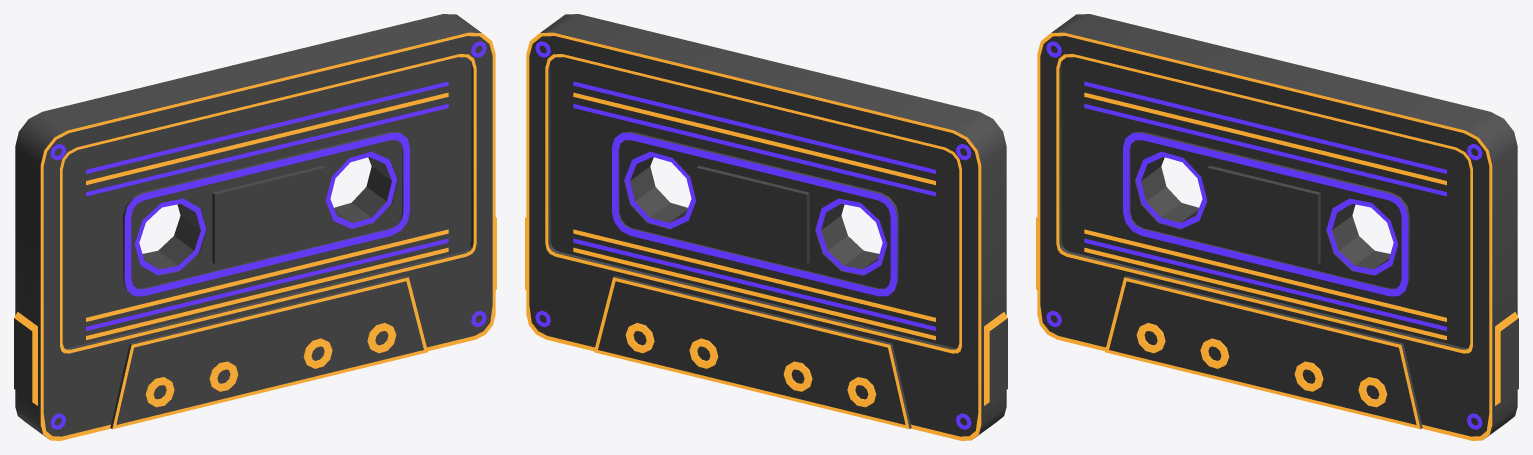
The model's file is tape.glb.
3 renders of one model, left to right at view 1: azimuth 30°, elevation 25°; view 2: azimuth 150°, elevation 25°; view 3: azimuth 330°, elevation 25°, orthographic.
Parts seen in each view (by area): view 1: tape; view 2: tape; view 3: tape.
Boxes of the visible parts, x1,y1,x2,y2 form: tape: (14, 14, 496, 440); tape: (525, 14, 1007, 440); tape: (1036, 14, 1518, 440).
Size of the model in its own units: 3.81 by 2.42 by 0.4635.
